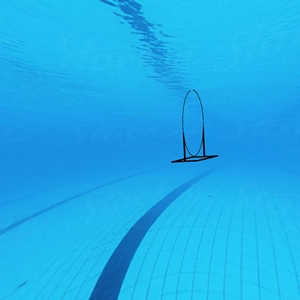circle: (169, 87, 221, 165)
